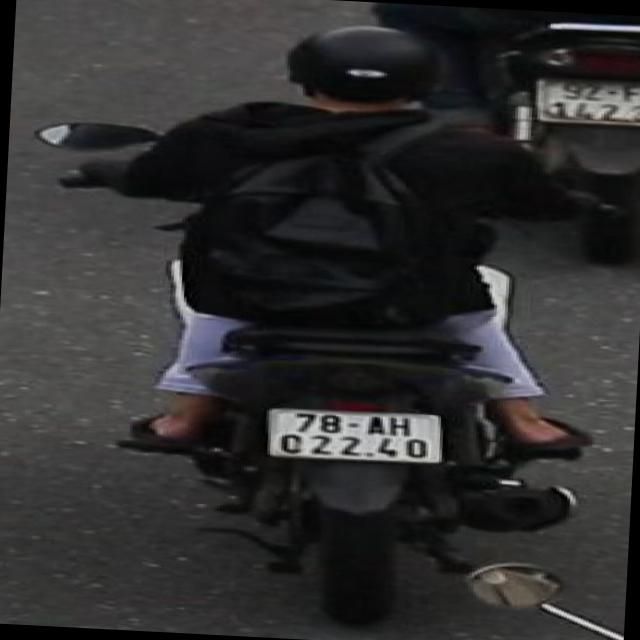LP: (257, 399, 449, 471)
helmet: (275, 20, 460, 124)
